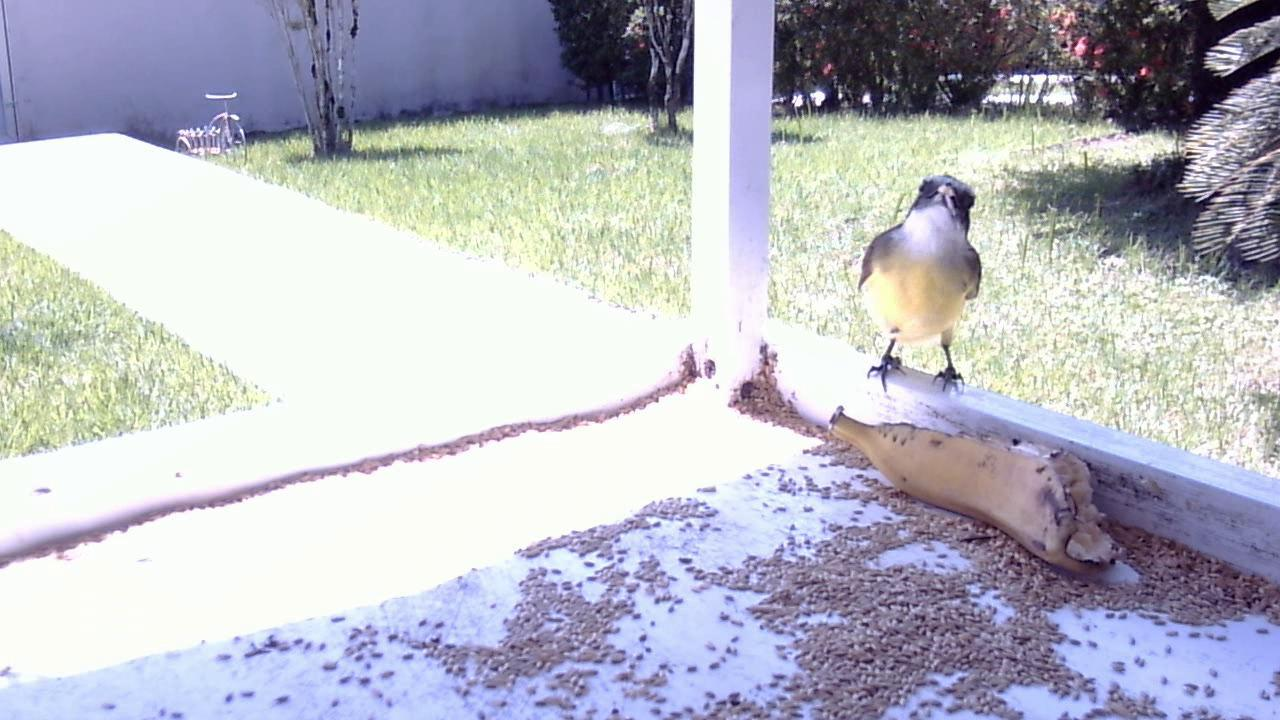bem_te_vi: (848, 176, 988, 406)
